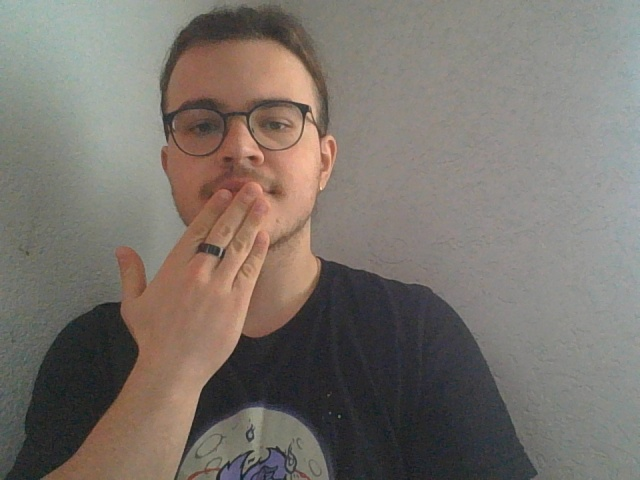ThankYou: (114, 180, 278, 480)
